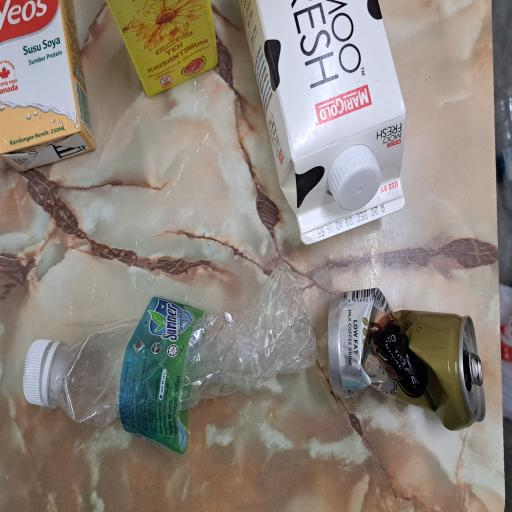can: (60, 436, 167, 512)
drink carton: (201, 317, 383, 512), (256, 0, 384, 129), (310, 141, 384, 293)
plastic bottle: (44, 70, 187, 424)
plastic bottle cap: (227, 440, 274, 509), (78, 31, 131, 76)
